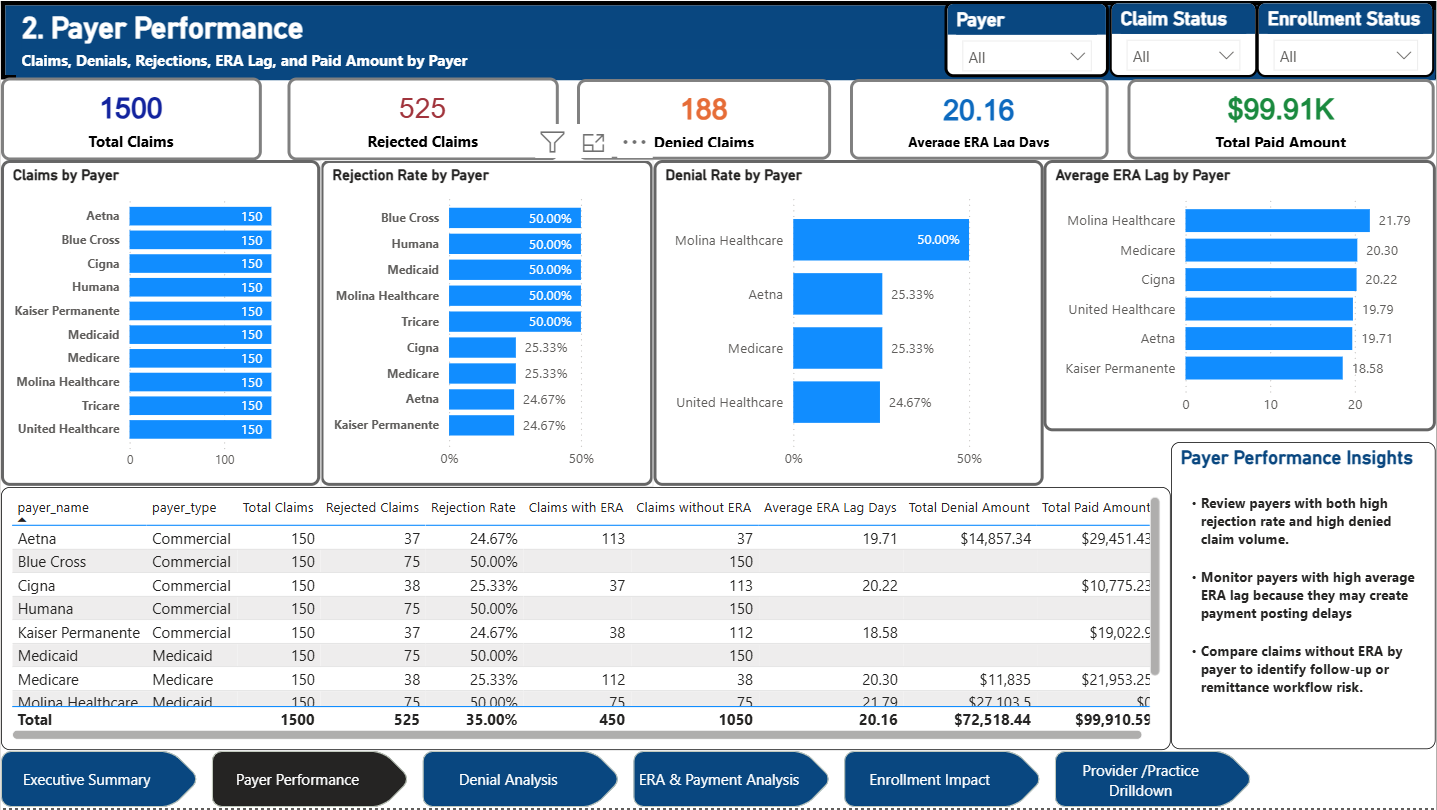

The dashboard page shown, as its layout file describes it:
{"tool":"powerbi","page":{"name":"Payer Performance","canvas":[1280,720],"ordinal":1},"visuals":[{"type":"shape","box":[0,0,1280,70],"z":0},{"type":"textbox","title":"2. Payer Performance","box":[13.2,7.6,1266.2,62.4],"z":1},{"type":"slicer","title":"Payer","fields":{"Values":["dim_payer.payer_name"]},"box":[841.9,0,146.9,68.1],"z":2},{"type":"slicer","title":"Claim Status","fields":{"Values":["fact_claims.claim_status"]},"box":[988.8,0,131.7,68.1],"z":3},{"type":"slicer","title":"Enrollment Status","fields":{"Values":["dim_enrollment.current_status"]},"box":[1120.5,0,159,68.1],"z":4},{"type":"card","fields":{"Values":["_Measures.Total Claims"]},"box":[0,68,232.4,73.7],"z":5},{"type":"card","fields":{"Values":["_Measures.Rejected Claims"]},"box":[255.1,68,241.9,73.7],"z":6},{"type":"card","fields":{"Values":["_Measures.Denied Claims"]},"box":[514,69.9,226.8,71.8],"z":7},{"type":"card","fields":{"Values":["_Measures.Average ERA Lag Days"]},"box":[757.8,69.9,230.6,71.8],"z":8},{"type":"card","fields":{"Values":["_Measures.Total Paid Amount"]},"box":[1005.4,69.9,274,71.8],"z":9},{"type":"clusteredBarChart","title":"Claims by Payer","fields":{"Category":["dim_payer.payer_name"],"Y":["_Measures.Total Claims"]},"box":[0,142.3,284.7,290.7],"z":10},{"type":"clusteredBarChart","title":"Rejection Rate by Payer","fields":{"Category":["dim_payer.payer_name"],"Y":["_Measures.Rejection Rate"]},"box":[284.7,142.3,296.8,290.7],"z":11},{"type":"clusteredBarChart","title":"Denial Rate by Payer","fields":{"Category":["dim_payer.payer_name"],"Y":["_Measures.Denial Rate"]},"box":[581.5,142.3,348.3,290.7],"z":12},{"type":"clusteredBarChart","title":"Average ERA Lag by Payer","fields":{"Category":["dim_payer.payer_name"],"Y":["_Measures.Average ERA Lag Days"]},"box":[929.7,142.3,349.8,242.3],"z":13},{"type":"tableEx","fields":{"Values":["dim_payer.payer_name","dim_payer.payer_type","_Measures.Total Claims","_Measures.Rejected Claims","_Measures.Rejection Rate","_Measures.Claims with ERA","_Measures.Claims without ERA","_Measures.Average ERA Lag Days","_Measures.Total Denial Amount","_Measures.Total Paid Amount"]},"box":[0,433.1,1043.3,234.7],"z":14},{"type":"textbox","box":[1262.4,419.5,17,300.5],"z":15},{"type":"textbox","title":"Payer Performance Insights","box":[1043.3,393.7,236.2,274.1],"z":16},{"type":"pageNavigator","box":[0,669.5,1119.5,50.5],"z":17}]}

Visuals, with their boxes in screenshot pixels (x1, y1, x2, y2), scaled from the page's 1280x720 canvas onto the 1437x810 screenshot:
shape: pyautogui.locateOnScreen(0, 0, 1436, 79)
"2. Payer Performance" textbox: pyautogui.locateOnScreen(15, 9, 1436, 79)
"Payer" slicer: pyautogui.locateOnScreen(945, 0, 1110, 77)
"Claim Status" slicer: pyautogui.locateOnScreen(1110, 0, 1258, 77)
"Enrollment Status" slicer: pyautogui.locateOnScreen(1258, 0, 1436, 77)
card - _Measures.Total Claims: pyautogui.locateOnScreen(0, 76, 261, 159)
card - _Measures.Rejected Claims: pyautogui.locateOnScreen(286, 76, 558, 159)
card - _Measures.Denied Claims: pyautogui.locateOnScreen(577, 79, 832, 159)
card - _Measures.Average ERA Lag Days: pyautogui.locateOnScreen(851, 79, 1110, 159)
card - _Measures.Total Paid Amount: pyautogui.locateOnScreen(1129, 79, 1436, 159)
"Claims by Payer" clusteredBarChart: pyautogui.locateOnScreen(0, 160, 320, 487)
"Rejection Rate by Payer" clusteredBarChart: pyautogui.locateOnScreen(320, 160, 653, 487)
"Denial Rate by Payer" clusteredBarChart: pyautogui.locateOnScreen(653, 160, 1044, 487)
"Average ERA Lag by Payer" clusteredBarChart: pyautogui.locateOnScreen(1044, 160, 1436, 433)
tableEx - dim_payer.payer_name x dim_payer.payer_type: pyautogui.locateOnScreen(0, 487, 1171, 751)
textbox: pyautogui.locateOnScreen(1417, 472, 1436, 809)
"Payer Performance Insights" textbox: pyautogui.locateOnScreen(1171, 443, 1436, 751)
pageNavigator: pyautogui.locateOnScreen(0, 753, 1257, 809)
